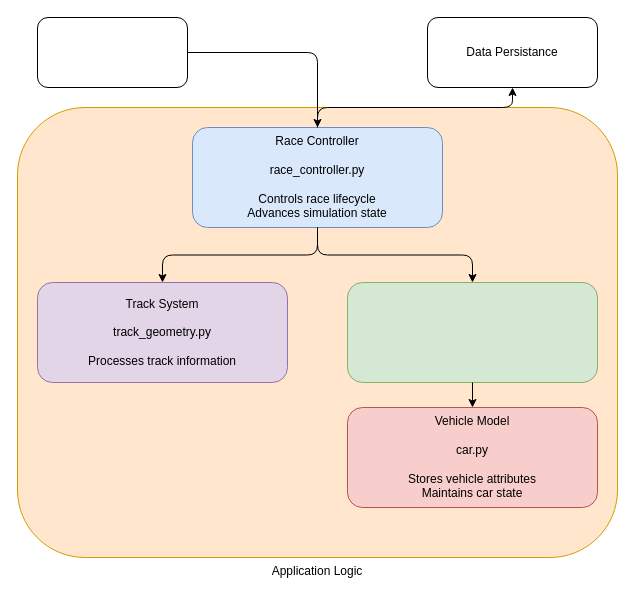
This 635x596 diagram has some shape labels left out. Each missing label, with the centre of its shape:
Driver Agent driver.py Models driver behaviour Maintains driver state: pixel 472 332
User Interface: pixel 112 52
